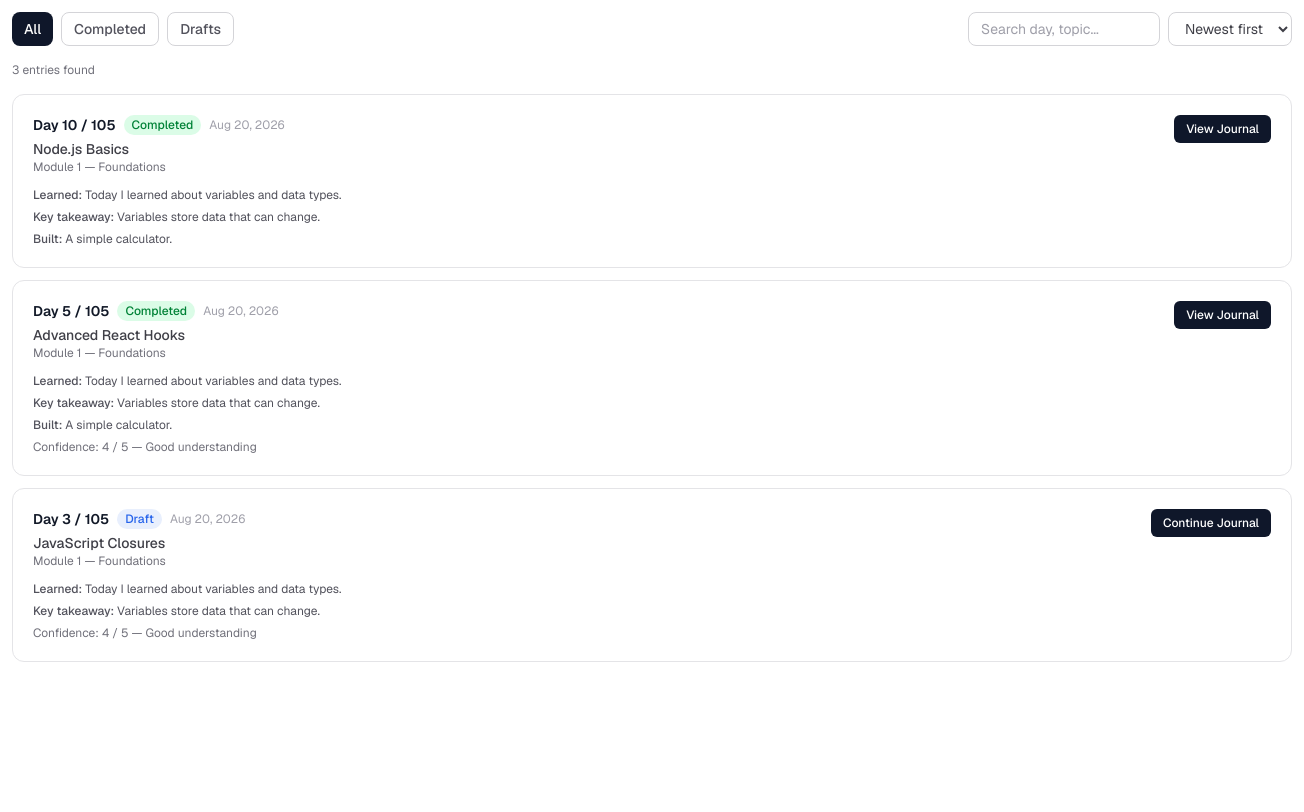
JournalHistoryList › searches by day number
This screenshot has width=1304, height=812.
In the field with placeholder "Search day, topic...": (1064, 29) top-left (968, 12), bottom-right (1160, 46), type "5"
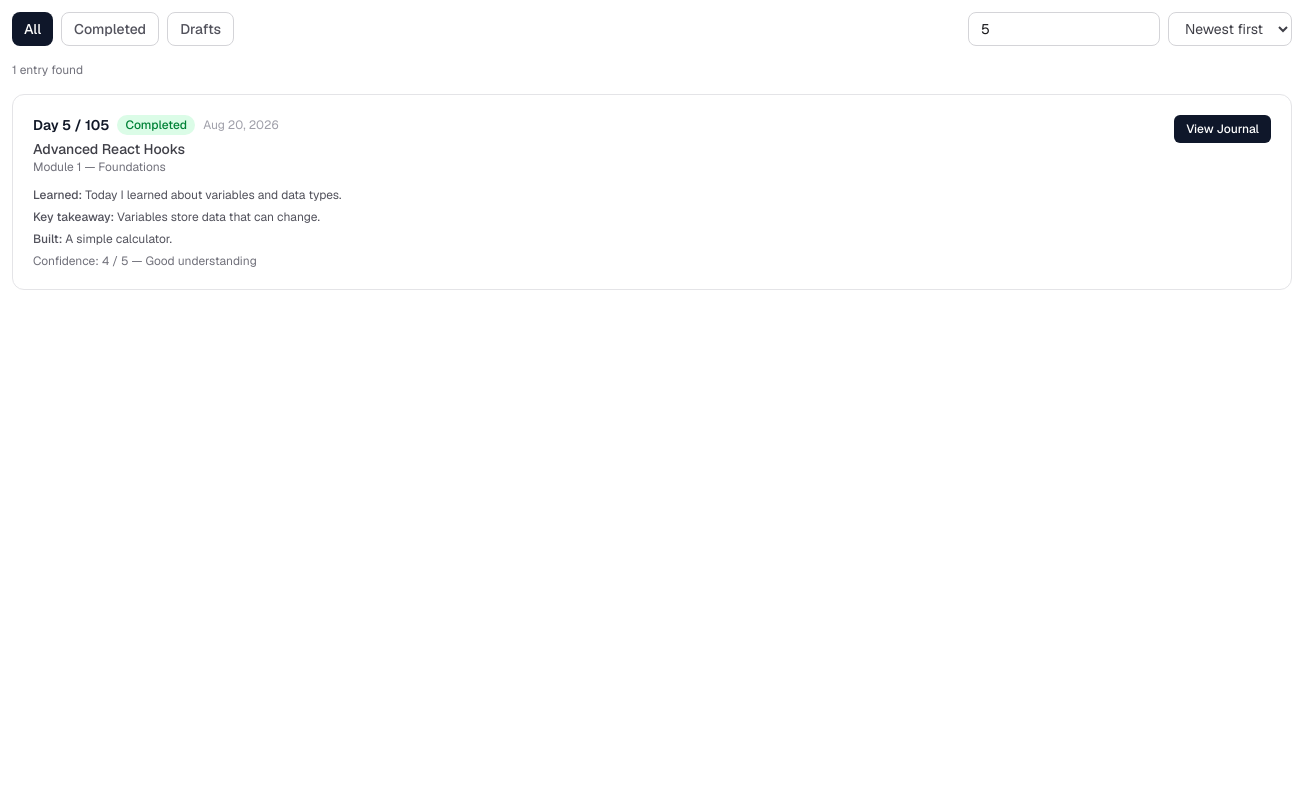
Expected: the text "Day 5 / 105" is shown, top-left (33, 115), bottom-right (109, 135)
Result: the text "Day 3 / 105" is gone
Result: the text "Day 10 / 105" is gone
